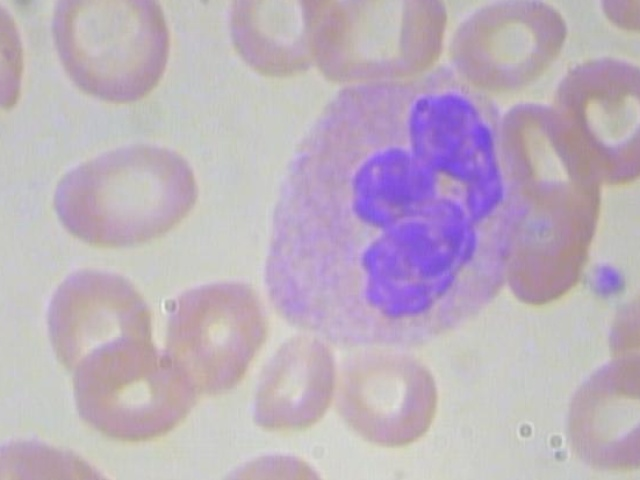Platelets: (580, 258, 637, 306)
RBC: (48, 138, 203, 249), (57, 325, 204, 440), (14, 264, 161, 379), (152, 277, 271, 407), (39, 0, 182, 104), (324, 339, 447, 458), (442, 0, 584, 90), (555, 351, 640, 480), (245, 330, 335, 441), (218, 0, 341, 78), (0, 0, 34, 116)
WBC: (241, 59, 531, 359)
